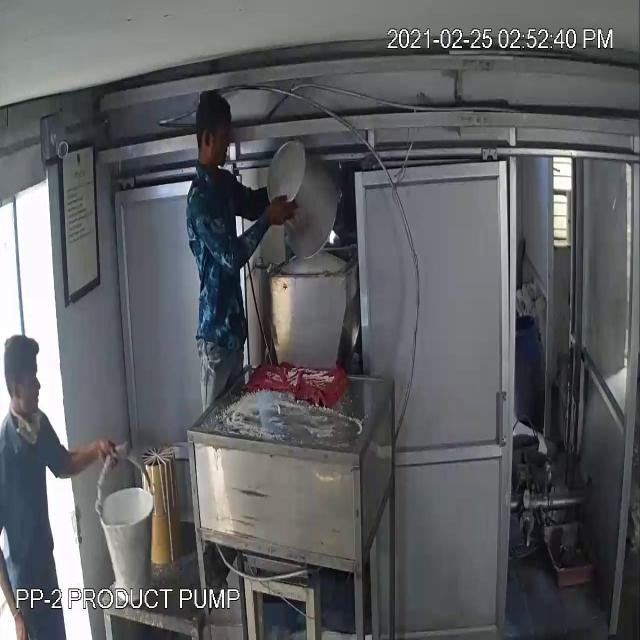no-helmet: (187, 80, 242, 148), (0, 315, 44, 398)
